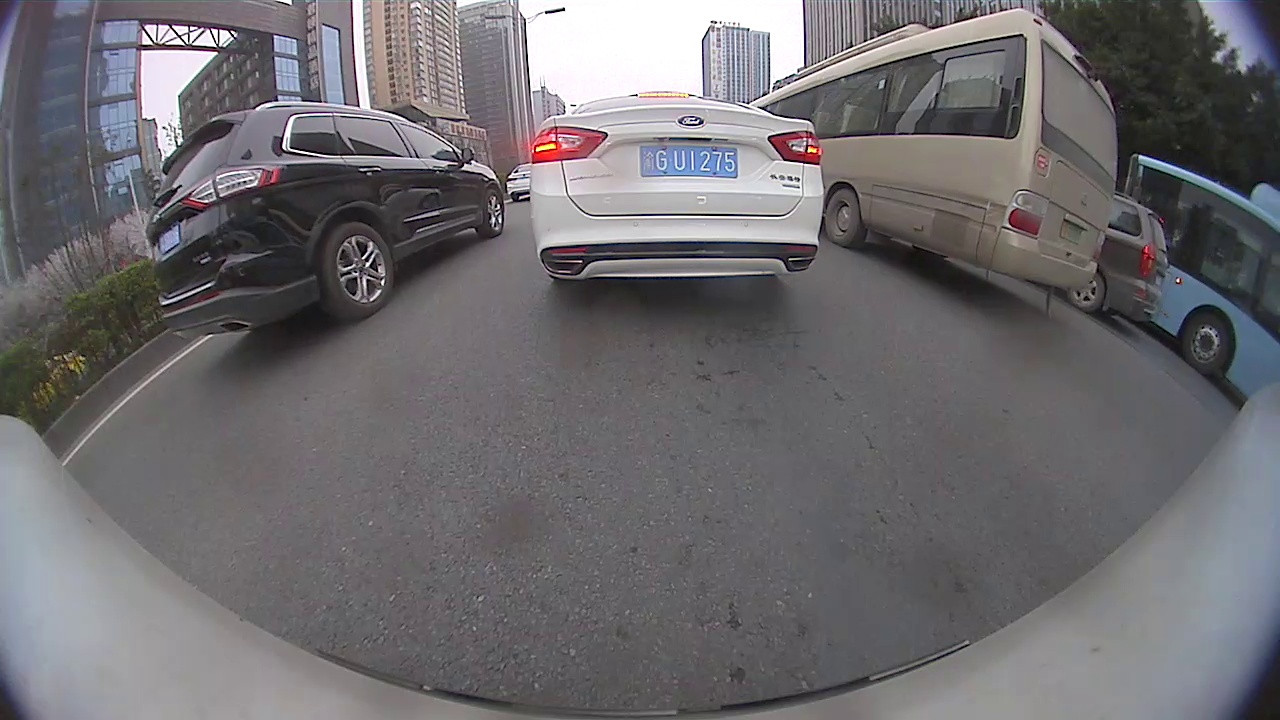bus: (746, 7, 1119, 294), (1124, 153, 1279, 399)
car: (144, 98, 506, 342), (531, 89, 826, 283), (1073, 190, 1170, 324), (509, 161, 532, 202)
front: (1180, 309, 1234, 378), (479, 186, 509, 238)
rear: (318, 220, 396, 319), (828, 186, 868, 249), (1071, 270, 1106, 313)
